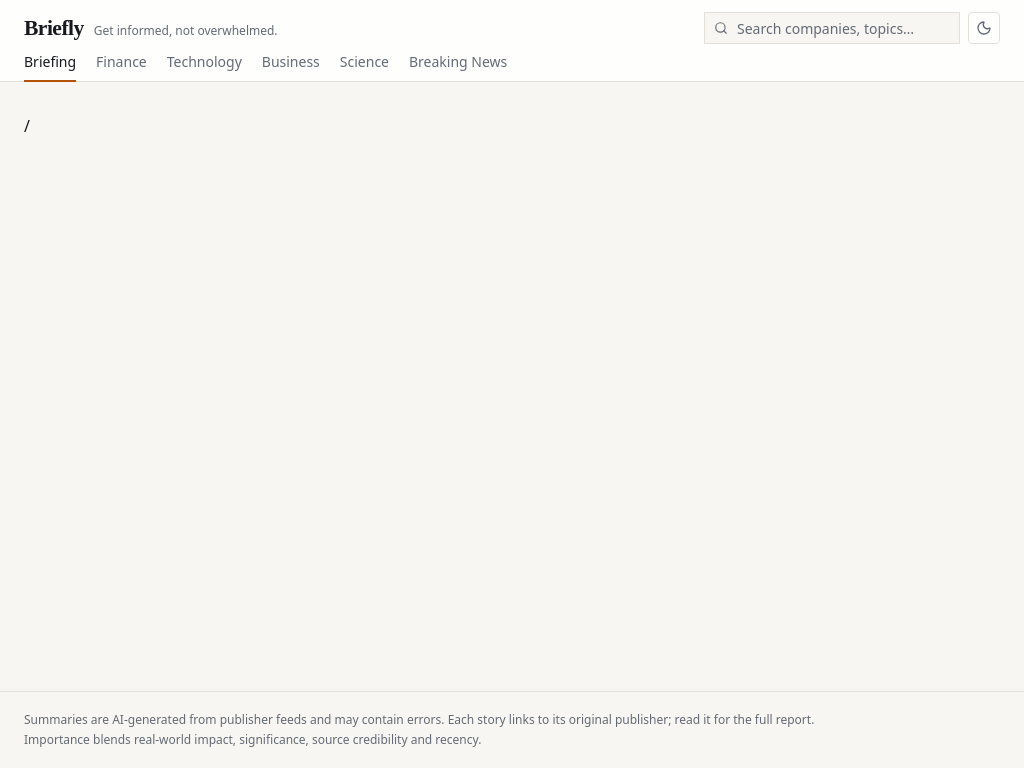
Scenario: Layout › searches from the header
The image size is (1024, 768).
Type "fusion energy" into the search field named "Search articles" at (832, 28), box [704,12,960,44]
Then press Enter
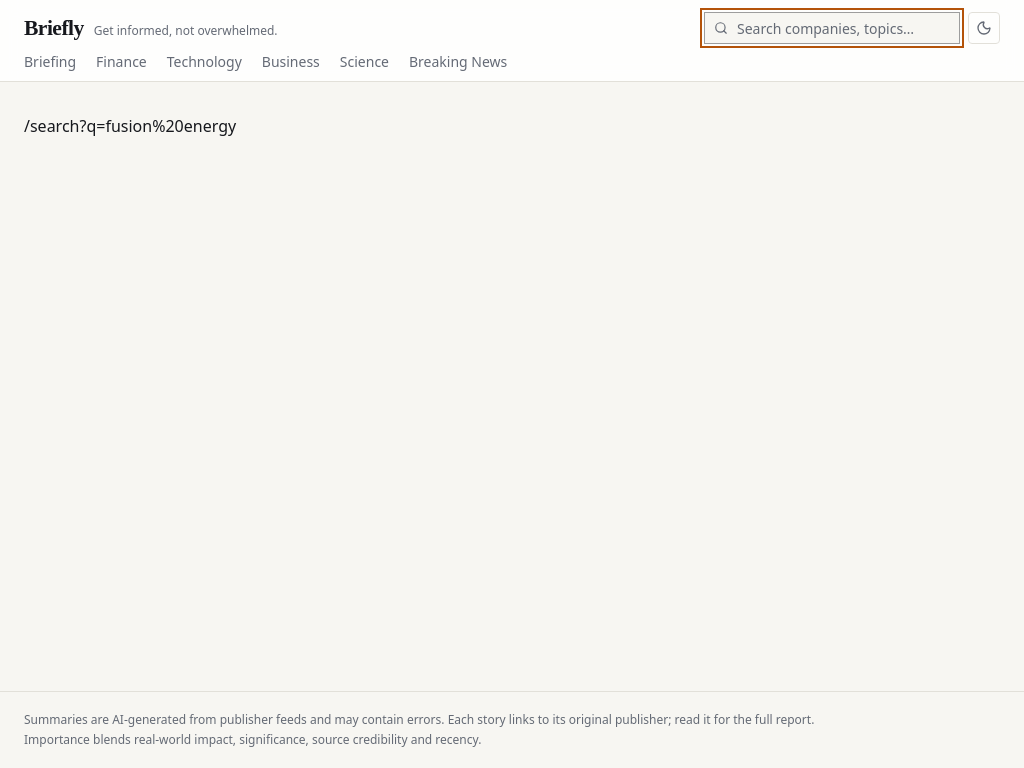
expect the text with test id "location" reads "/search?q=fusion%20energy": met, box [24,115,236,137]
